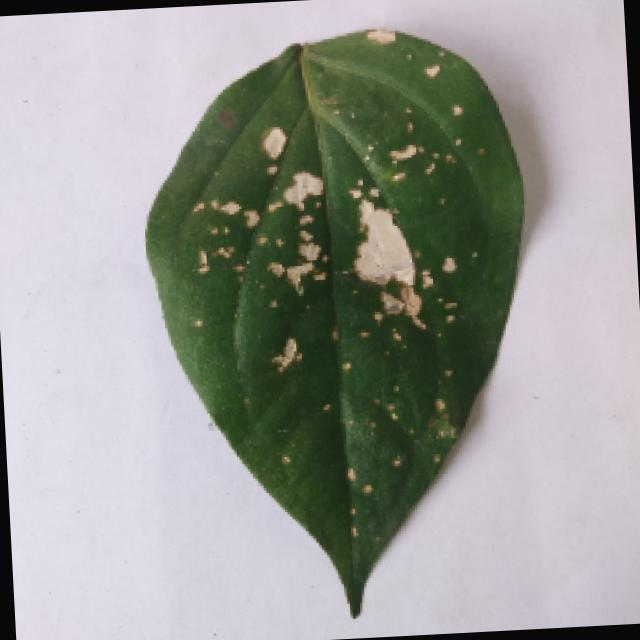pollu-disease: (118, 26, 565, 627)
